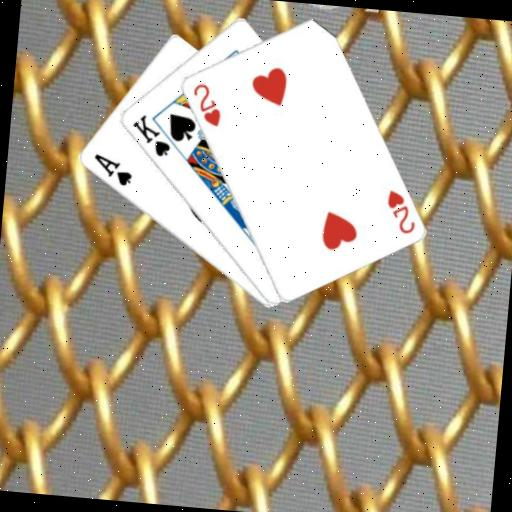2H: (381, 187, 420, 237), (187, 79, 225, 129)
AS: (88, 150, 135, 189)
KS: (126, 111, 174, 160)
